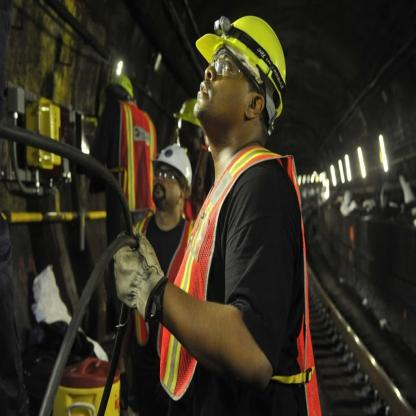Helmet: (196, 11, 287, 134), (150, 144, 193, 200), (102, 72, 135, 104), (174, 100, 201, 129)
